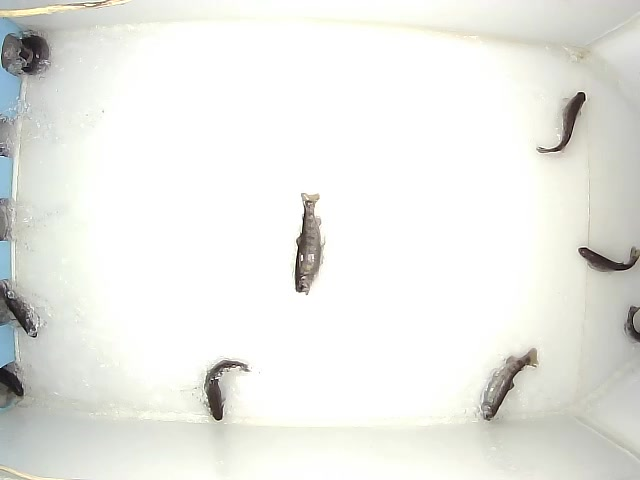fish: (479, 346, 540, 423), (293, 191, 326, 296), (535, 91, 587, 154), (203, 358, 254, 422), (1, 279, 39, 339), (577, 246, 640, 273), (16, 32, 52, 77)
